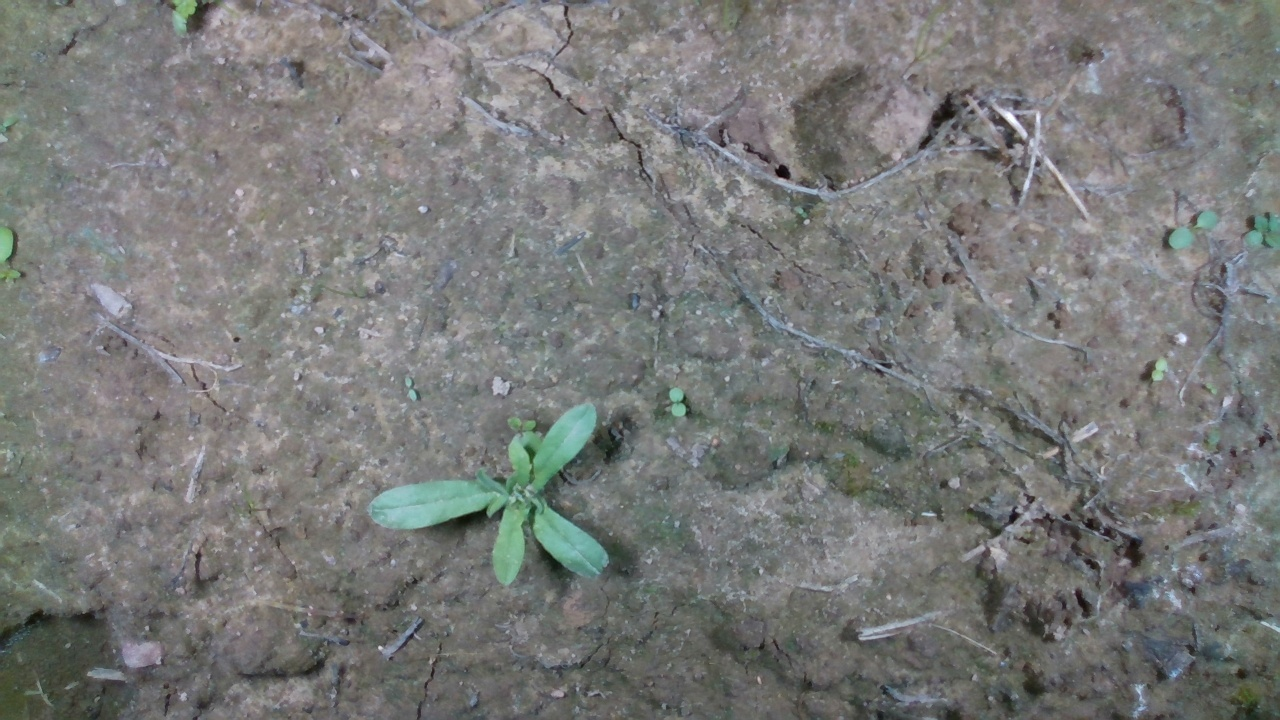weed: (1166, 209, 1222, 248), (666, 385, 688, 418), (1150, 358, 1169, 382)
